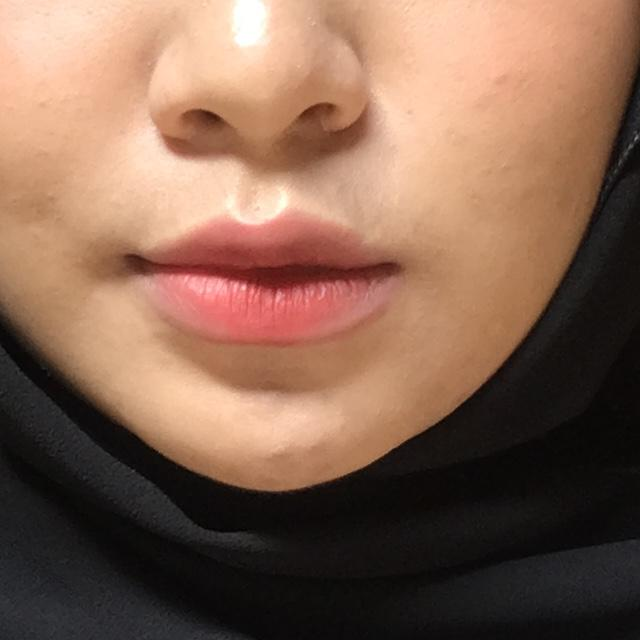ibu: (0, 0, 270, 626)
